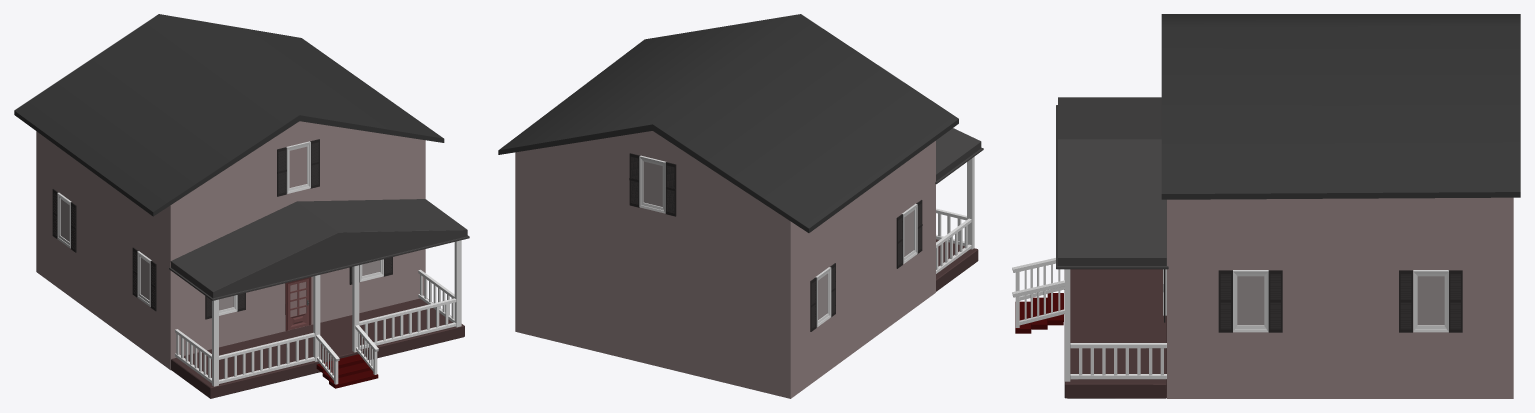
The model's file is GmaHouse.fbx.
The picture shows the model from 3 angles, left to right: view 1: azimuth 30°, elevation 25°; view 2: azimuth 150°, elevation 25°; view 3: azimuth 270°, elevation 25°; orthographic projection. The views are drawn at different scales.
Visible parts, largest first — view 1: House1, FrontPorch, Window1, Window7, Window8, FrontDoor, Window3, Window2; view 2: House1, FrontPorch, Window6, Window7, Window8; view 3: House1, FrontPorch, Window4, Window5.
Part boxes in pixels (<box>): House1: <box>14,14,444,370</box>; FrontPorch: <box>169,199,469,398</box>; Window1: <box>277,139,319,196</box>; Window7: <box>132,247,156,311</box>; Window8: <box>52,189,76,252</box>; FrontDoor: <box>287,278,308,330</box>; Window3: <box>349,257,392,284</box>; Window2: <box>205,293,245,319</box>; House1: <box>498,14,958,398</box>; FrontPorch: <box>935,128,983,291</box>; Window6: <box>629,153,676,216</box>; Window7: <box>896,200,922,268</box>; Window8: <box>810,263,835,331</box>; House1: <box>1161,14,1520,398</box>; FrontPorch: <box>1012,97,1168,398</box>; Window4: <box>1218,270,1282,332</box>; Window5: <box>1399,270,1462,332</box>.
Bounding box in the file's own units: 1362 × 1015 × 1595.
